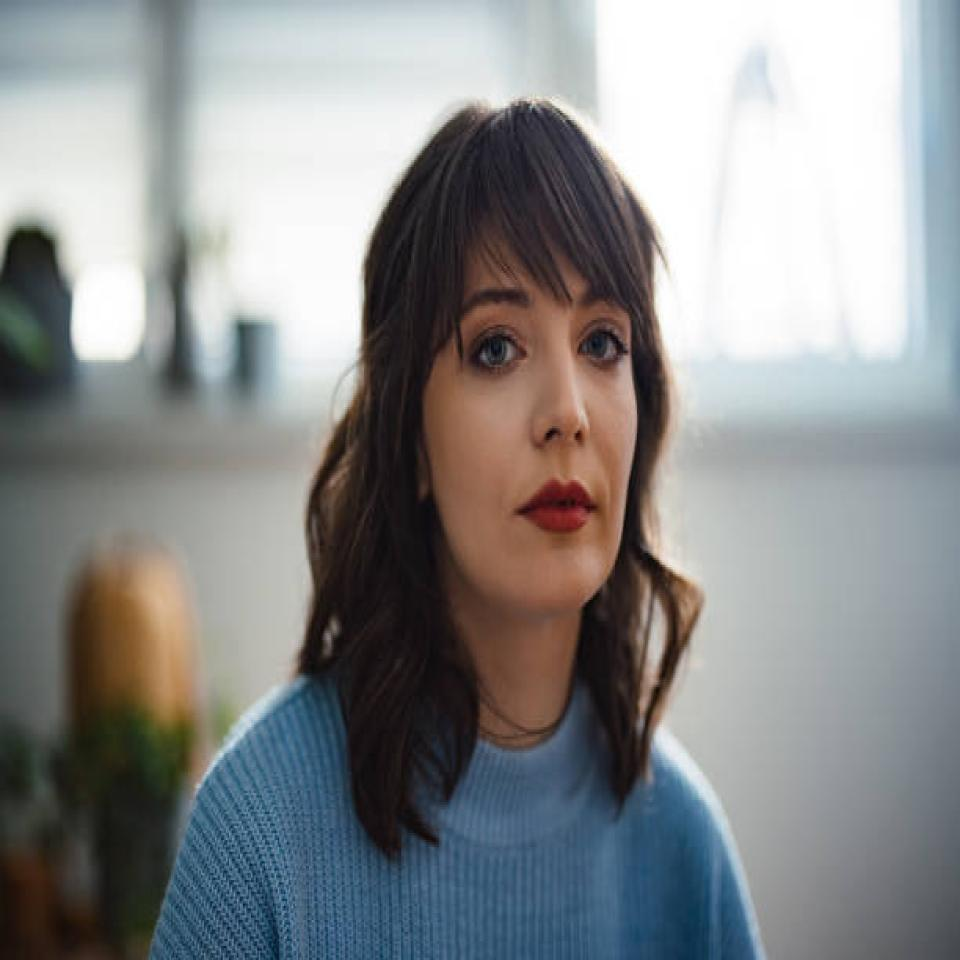Sadness: (411, 161, 644, 616)
